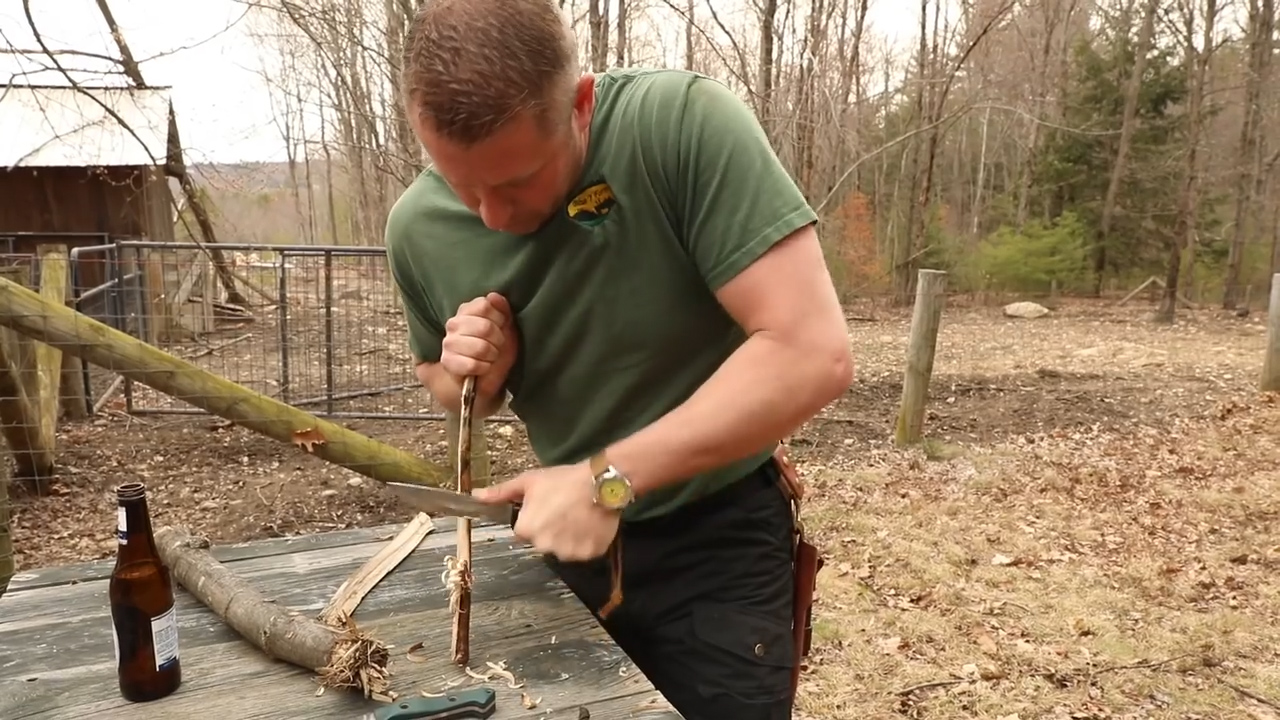knife: (366, 463, 575, 570)
